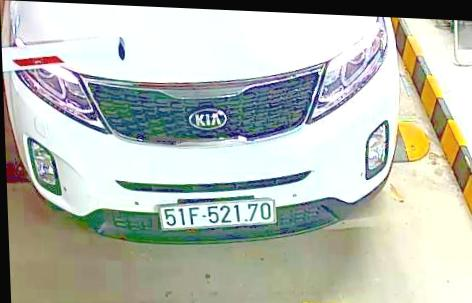License_Plate: (158, 193, 283, 237)
